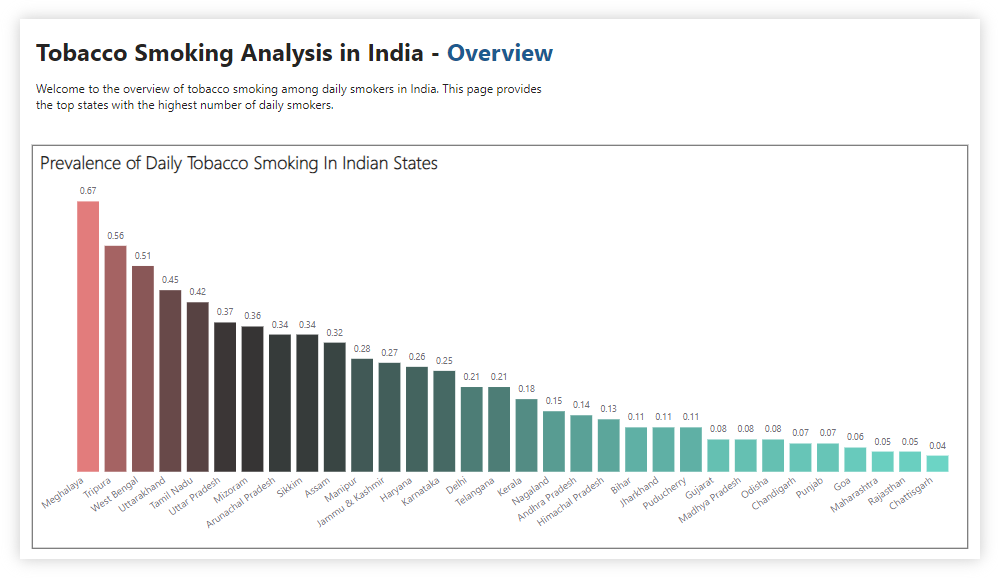

The page's visual inventory and layout, read from the dashboard file:
{"tool":"powerbi","page":{"name":"Overview","canvas":[1280,720],"ordinal":0},"visuals":[{"type":"textbox","box":[16.7,16.7,890,58.3],"z":0},{"type":"textbox","box":[16,76,688,58],"z":1000},{"type":"columnChart","title":"Prevalence of Daily Tobacco Smoking In Indian States","fields":{"Category":["GATS 2016.State"],"Y":["Key Measures.No of people who smoke daily"]},"box":[16,168,1248,538],"z":2000}]}

Visuals, with their boxes in screenshot pixels (x1, y1, x2, y2), scaled from the page's 1280x720 canvas onto the 998x578 screenshot:
textbox: Rect(13, 13, 707, 60)
textbox: Rect(12, 61, 549, 108)
"Prevalence of Daily Tobacco Smoking In Indian States" columnChart: Rect(12, 135, 986, 567)
